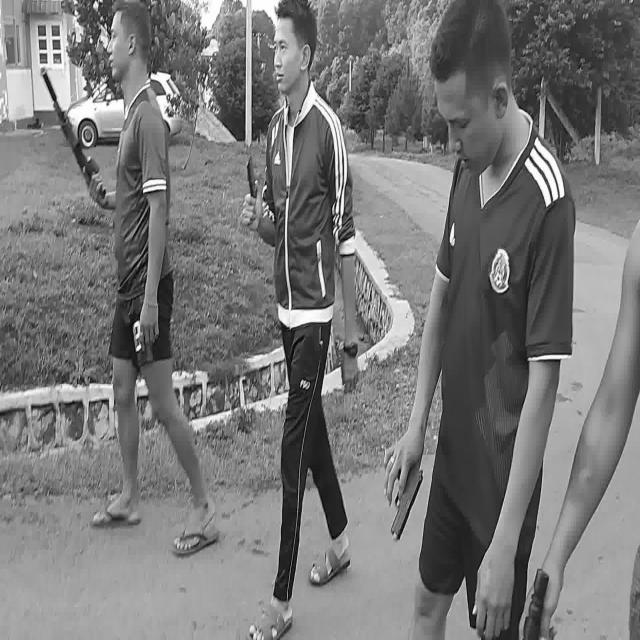gun: (41, 67, 106, 198), (392, 464, 424, 540)
